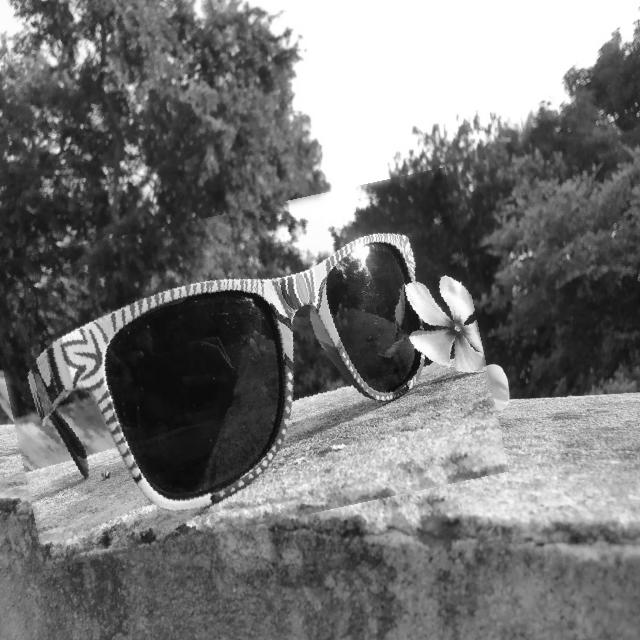glasses: (0, 190, 495, 546)
